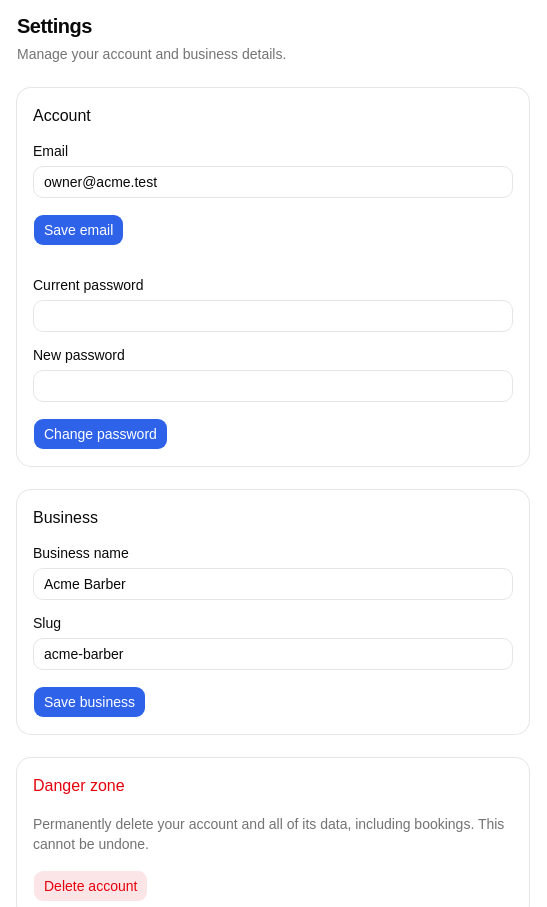
Test: Settings page › updates the business name and slug and shows confirmation
The image size is (547, 907).
Replace the text in the field labelled "Business name" with "Acme Barbershop": (273, 584) 33,568 -> 513,600
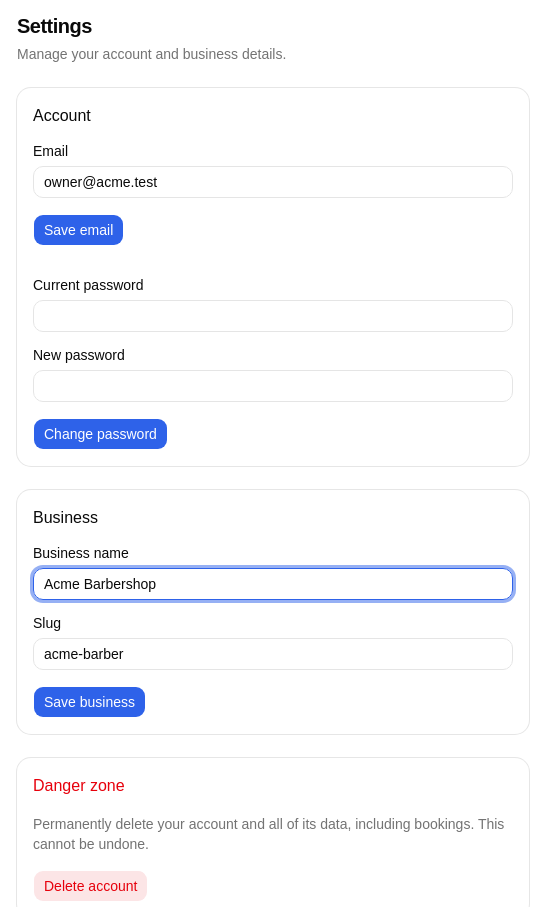
Click the button "Save business": (90, 702) 33,686 -> 146,718
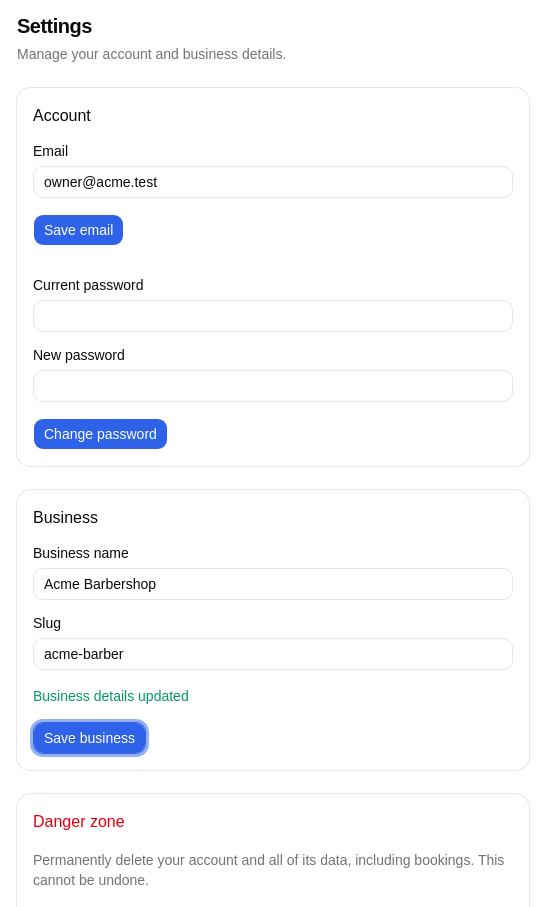
Now the text "Business details updated" is shown, box 33,688 -> 189,704
